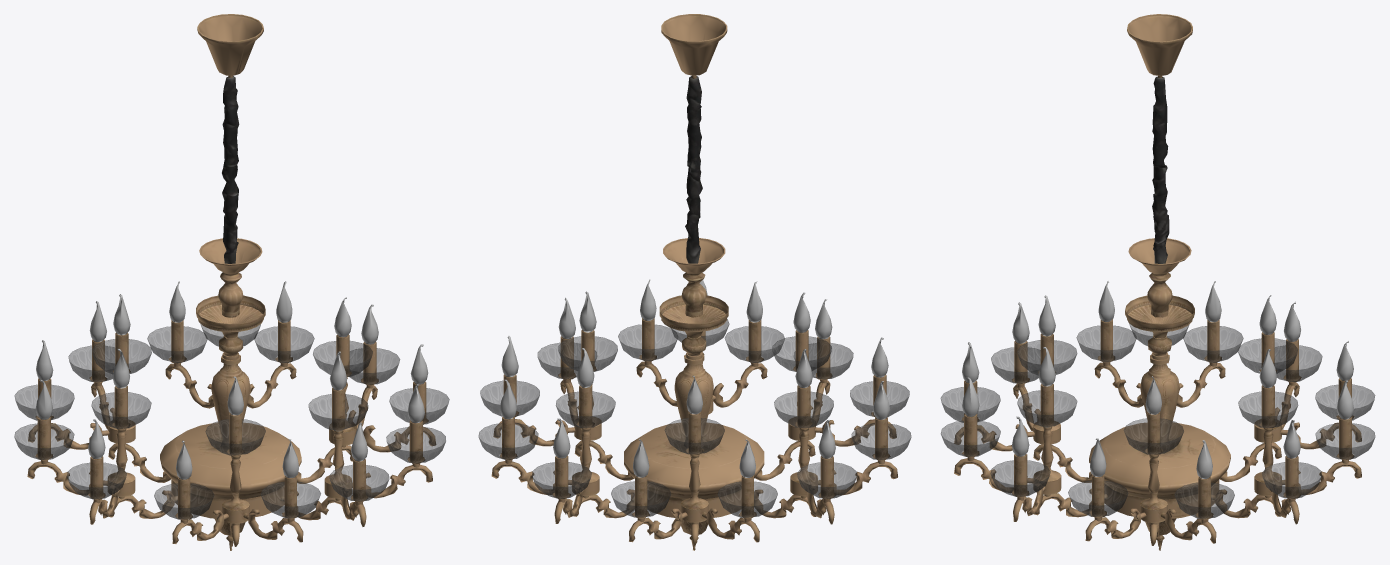
Rendered from chandelier_03.glb.
3 renders of one model, left to right at view 1: azimuth 30°, elevation 25°; view 2: azimuth 150°, elevation 25°; view 3: azimuth 270°, elevation 25°, orthographic.
Parts seen in each view (by area): view 1: Chandelier_03; view 2: Chandelier_03; view 3: Chandelier_03.
Part boxes in pixels (x1=…): Chandelier_03: x1=14, y1=14, x2=449, y2=550; Chandelier_03: x1=478, y1=14, x2=911, y2=550; Chandelier_03: x1=940, y1=14, x2=1375, y2=550.
Bounding box in the file's own units: 0.7804 × 1.04 × 0.7852.
Materials: 2 (2 with a texture image).
